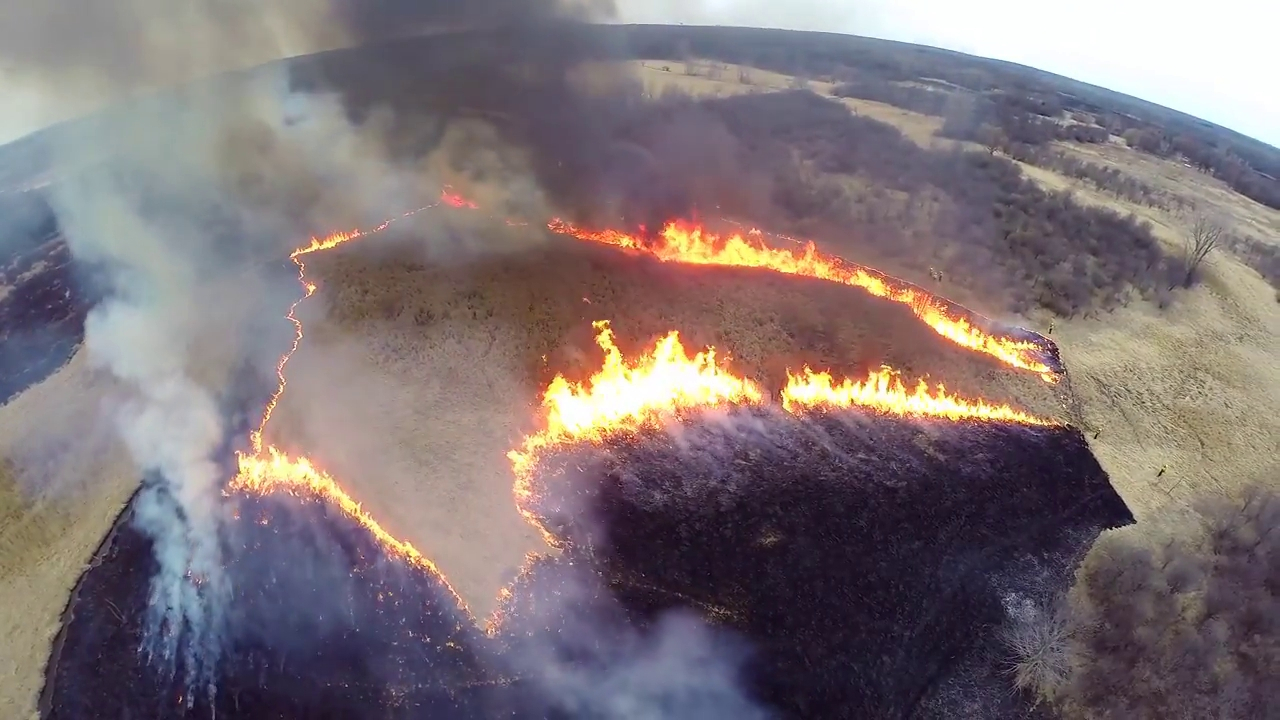forest_fire: (507, 320, 1054, 527), (226, 218, 442, 580), (547, 220, 941, 320), (952, 320, 1049, 372), (427, 188, 473, 205), (453, 591, 464, 607), (403, 208, 424, 216), (938, 329, 953, 338), (445, 581, 446, 585), (938, 319, 942, 320)
